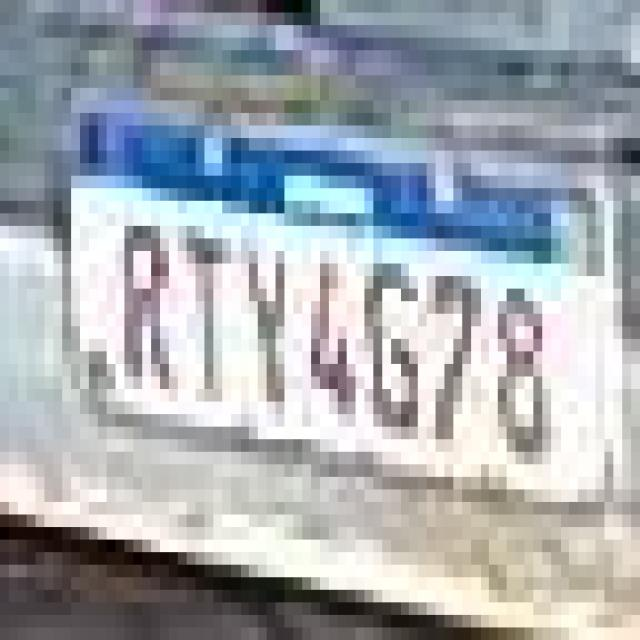4: (302, 245, 358, 425)
7: (421, 265, 485, 458)
8: (491, 277, 554, 464)
G: (359, 256, 427, 437)
R: (108, 210, 174, 402)
T: (176, 213, 235, 411)
Y: (239, 241, 296, 410)
